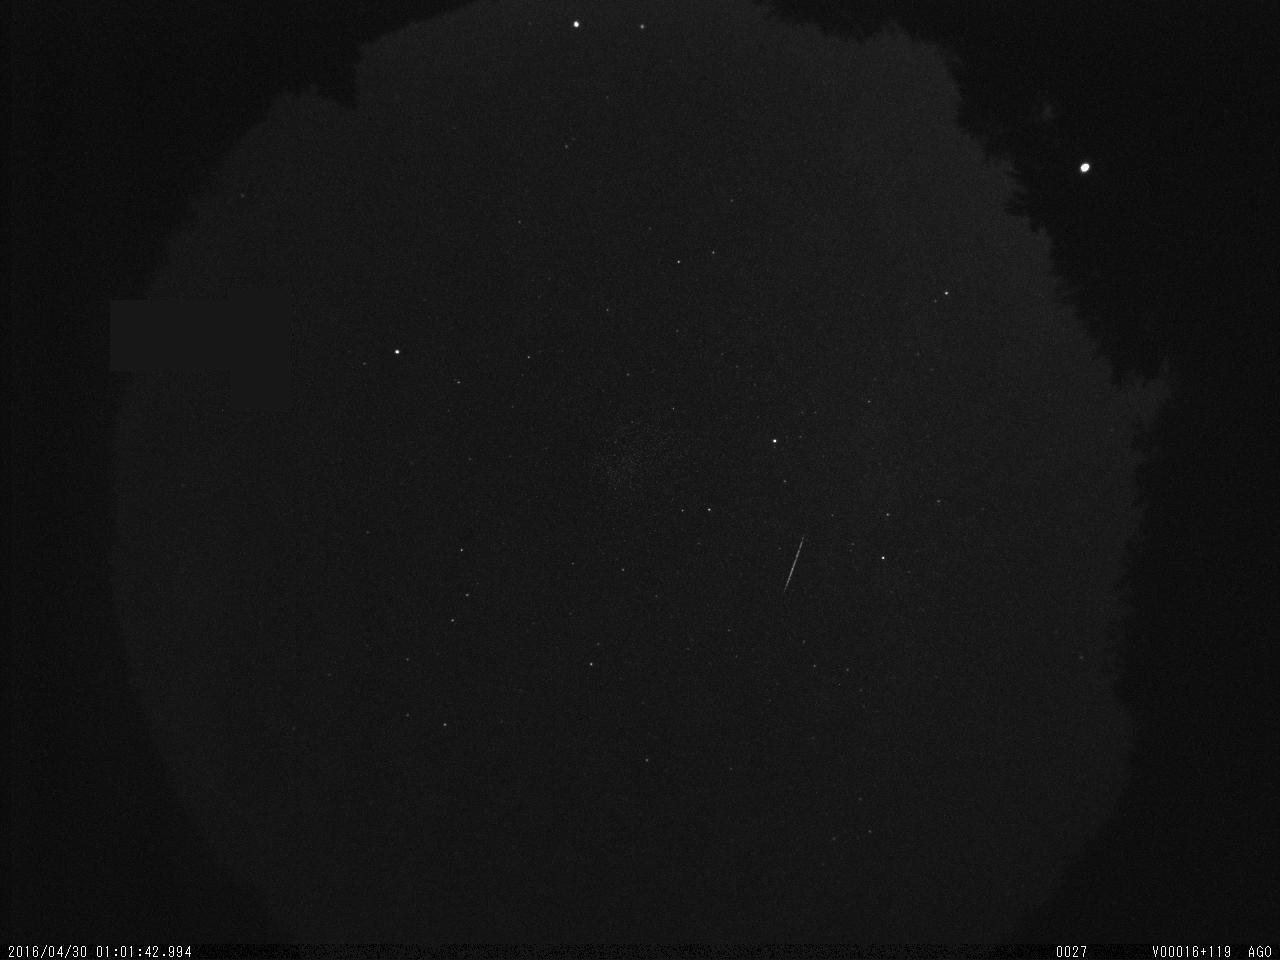meteor: (774, 527, 831, 603)
